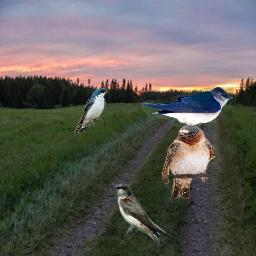Swallow: (140, 87, 233, 133), (162, 124, 215, 199), (115, 184, 172, 246), (74, 88, 108, 134)
